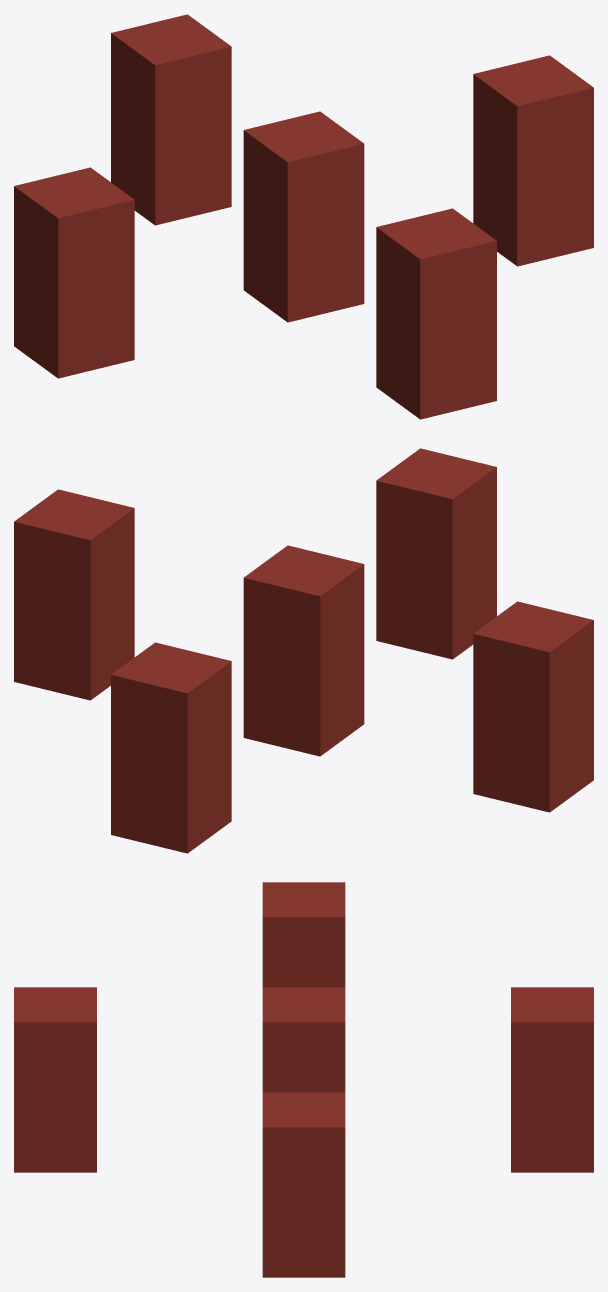
Rendered from church-40-candelabraR.obj.
The picture shows the model from 3 angles, top to bottom: view 1: azimuth 30°, elevation 25°; view 2: azimuth 150°, elevation 25°; view 3: azimuth 270°, elevation 25°; orthographic projection. The views are drawn at different scales.
Visible parts, largest first — view 1: candelabraR; view 2: candelabraR; view 3: candelabraR.
Boxes of the visible parts, bbox=[...] form: candelabraR: bbox=[14, 14, 593, 419]; candelabraR: bbox=[14, 448, 593, 853]; candelabraR: bbox=[14, 882, 593, 1277].
Bounding box in the file's own units: 0.7 × 0.2 × 0.7.
Materials: 1 (1 with a texture image).
